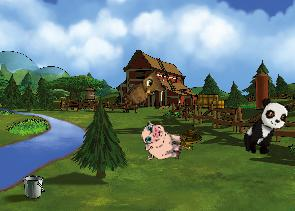owl: (120, 65, 171, 119)
panda: (238, 94, 293, 161)
pig: (139, 120, 185, 163)
